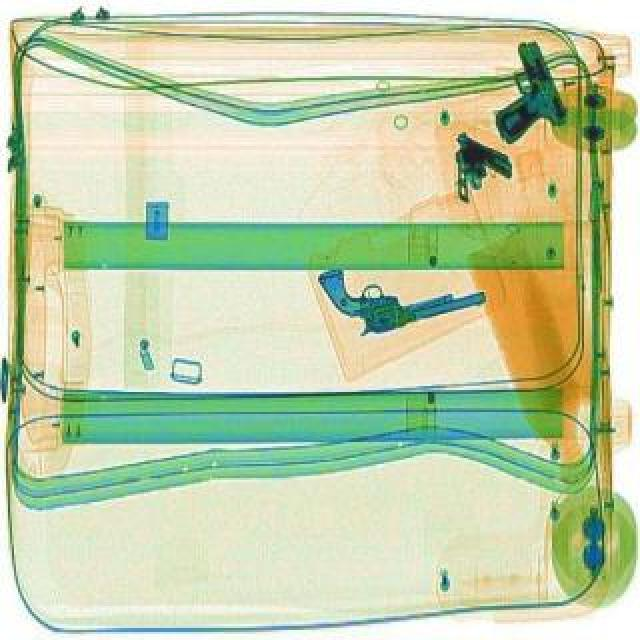gun: (314, 230, 488, 358), (474, 34, 598, 162), (432, 126, 520, 214)
